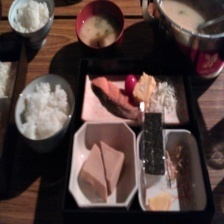rice: (9, 0, 51, 34)
